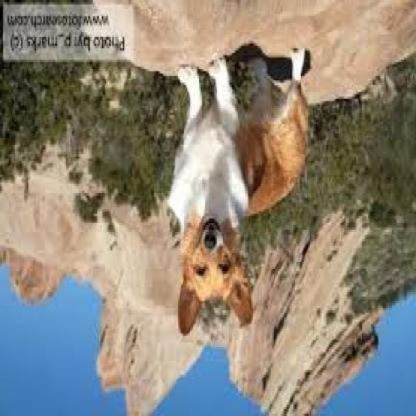dog: (166, 48, 311, 336)
